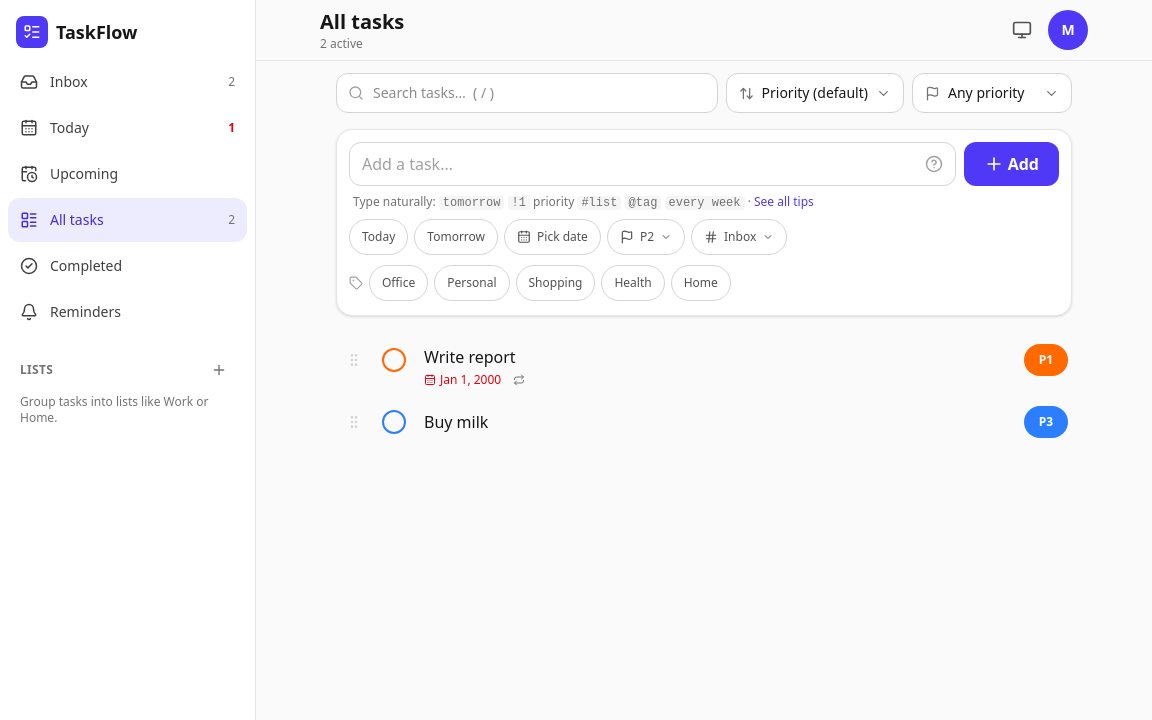
Scenario: TodoApp › moves a repeating task to its next date instead of completing it
The width and height of the screenshot is (1152, 720).
Click the checkbox named "Mark as done: Write report" at point(394, 360), box x1=382 y1=348 x2=406 y2=372
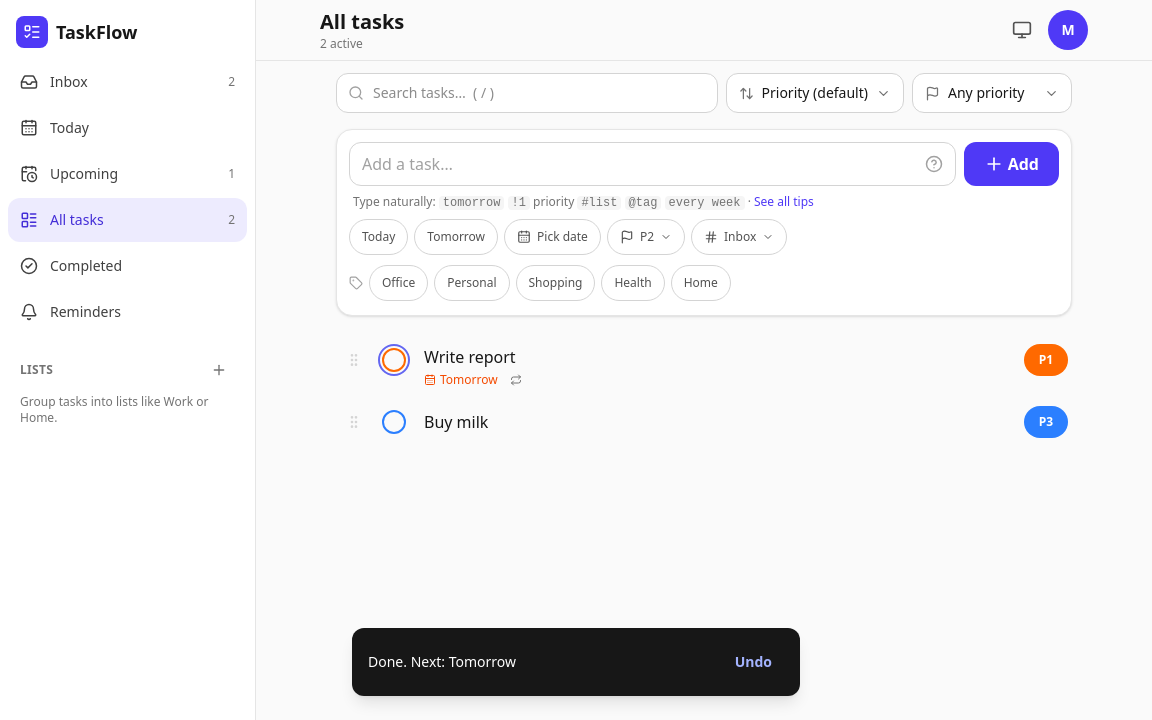
Expected: the text "Done. Next: Tomorrow" is shown, x1=368 y1=652 x2=516 y2=672
